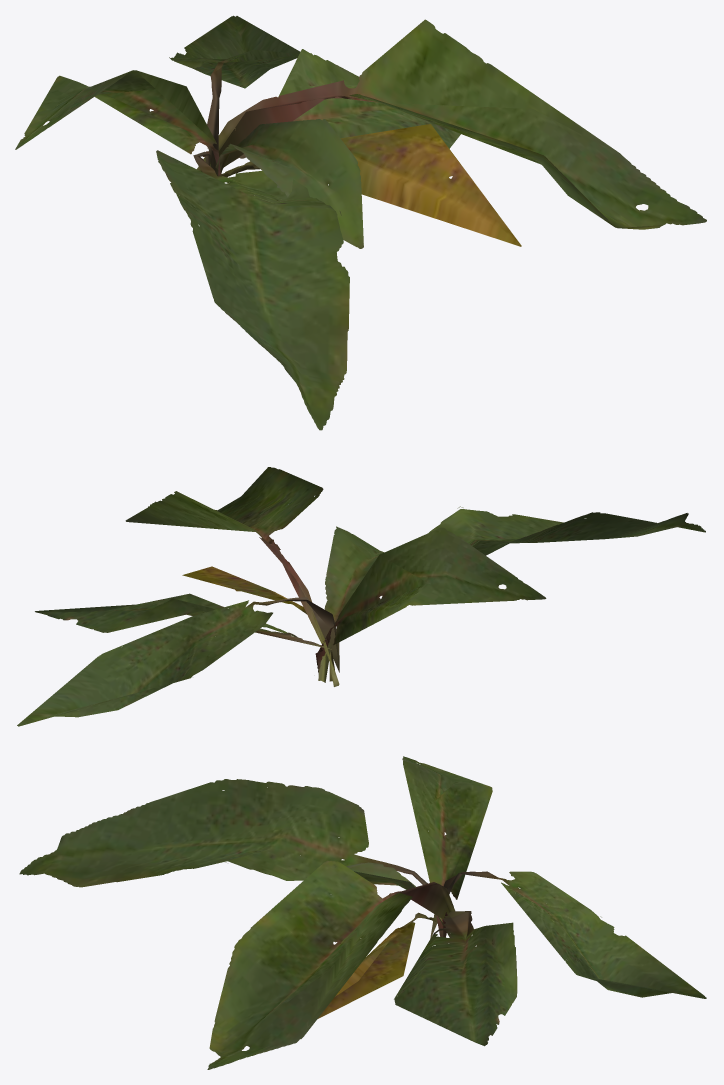
3 renders of one model, top to bottom at view 1: azimuth 30°, elevation 25°; view 2: azimuth 150°, elevation 25°; view 3: azimuth 270°, elevation 25°, orthographic. The views are drawn at different scales.
Visible parts, largest first — view 1: weed_plant_02__a_lod1; view 2: weed_plant_02__a_lod1; view 3: weed_plant_02__a_lod1.
Part boxes in pixels (x1,y1,x2,y2): weed_plant_02__a_lod1: (15,15,706,430); weed_plant_02__a_lod1: (17,467,705,726); weed_plant_02__a_lod1: (19,756,706,1069).
Size of the model in its own units: 0.2291 by 0.0759 by 0.3055.
1 material, 1 textured.
